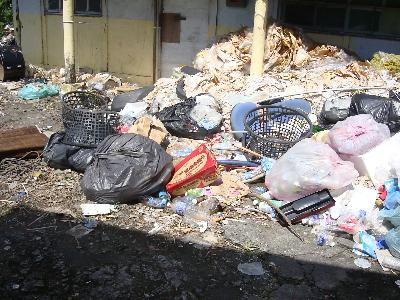bottle: (168, 201, 209, 220)
box: (169, 144, 223, 198), (277, 189, 336, 228)
plastic_bag: (80, 131, 174, 204), (265, 136, 359, 203), (151, 92, 225, 143), (325, 110, 393, 165), (15, 80, 62, 102)
